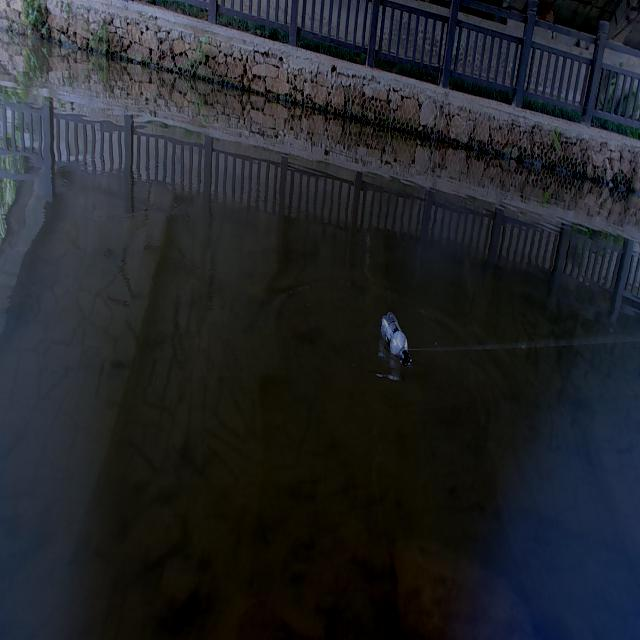bottle: (368, 309, 416, 369)
